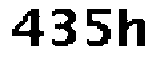3: (47, 6, 78, 50)
4: (9, 6, 45, 48)
5: (82, 4, 114, 49)
h: (116, 6, 150, 51)
